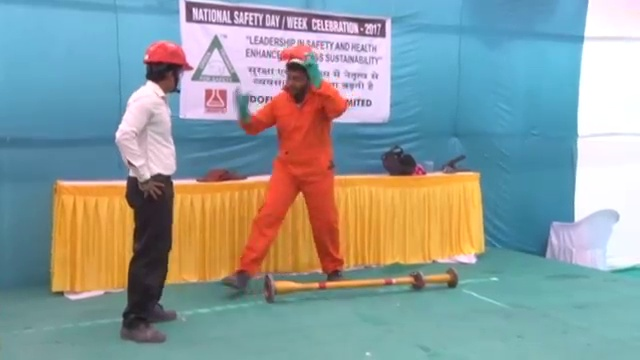helmet: (143, 40, 193, 70), (280, 45, 313, 68)
helmet_on: (141, 37, 194, 95), (277, 44, 313, 104)
person: (222, 46, 353, 291), (114, 36, 196, 343)
